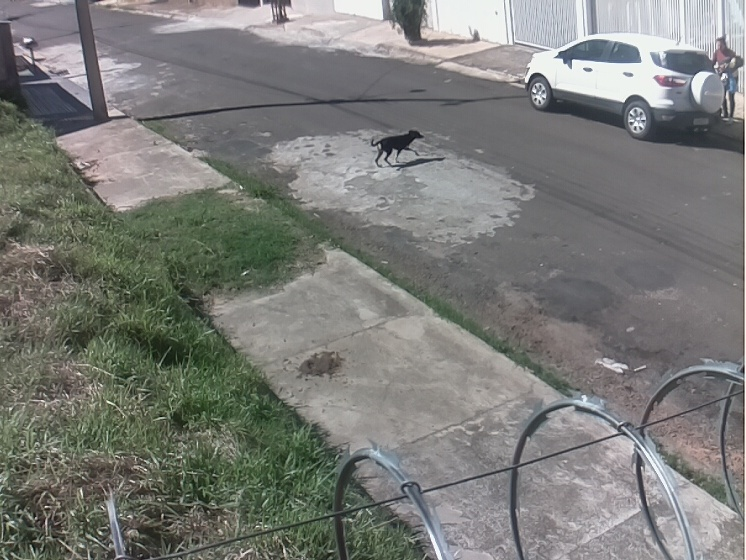person: (712, 36, 742, 116)
